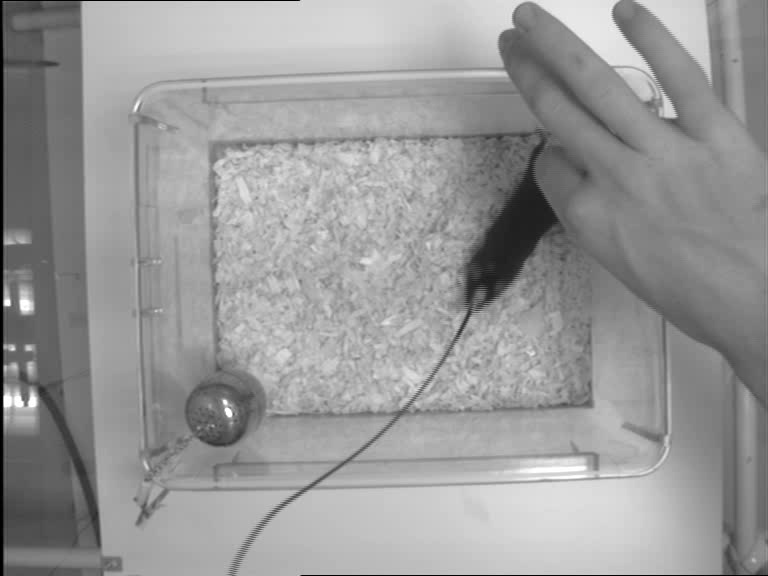mice: (461, 129, 583, 316)
